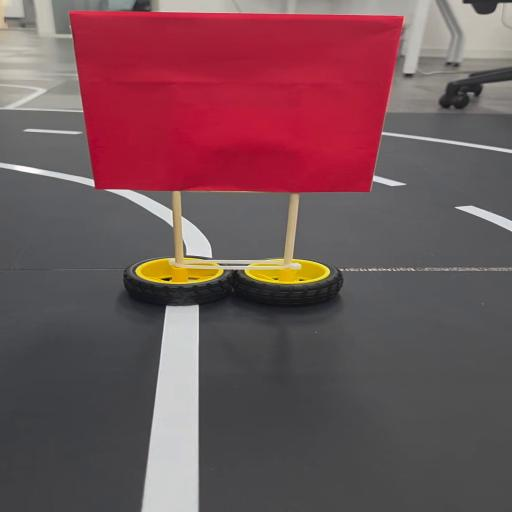Sign_A: (69, 6, 404, 322)
